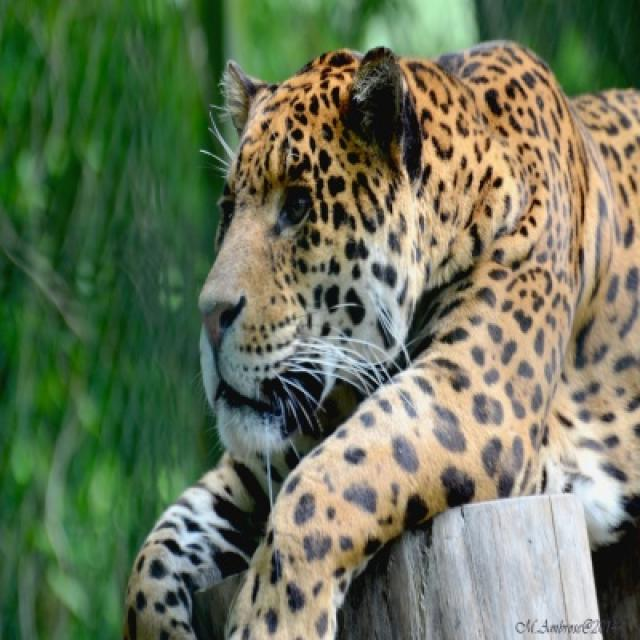Jaguar: (122, 40, 638, 638)
